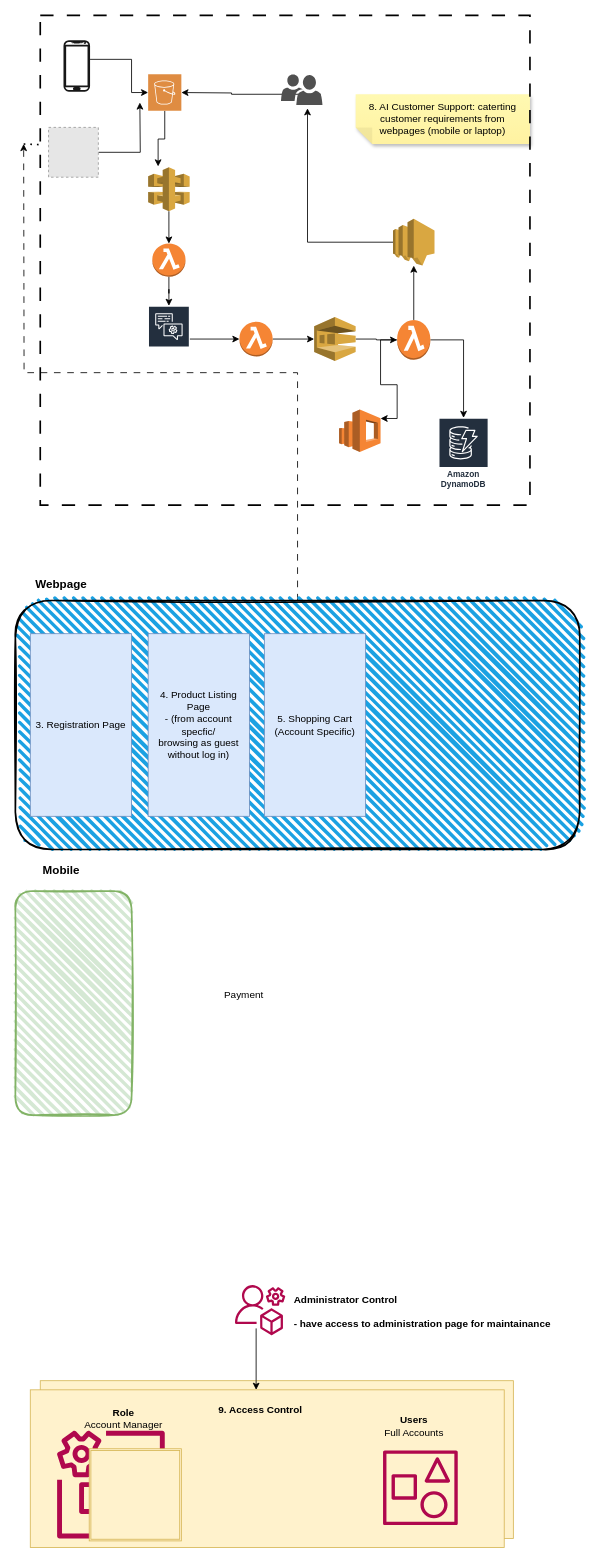
Image size: 594x1562. Some labels were removed from this diagram. Grey dashed boxes stand in for pictures. The shapes that lost their labels are listed below. From the top down, each one's centre as x and y in pixels, then its label:
At [168,338]: "Amazon Lex".
At [73,1003]: "Same as Webpage, - (in different webpage layout)".
At [134,1494]: "1. access analytics 2. edit all onsites 3. view reviews 4. respond to reviews".
